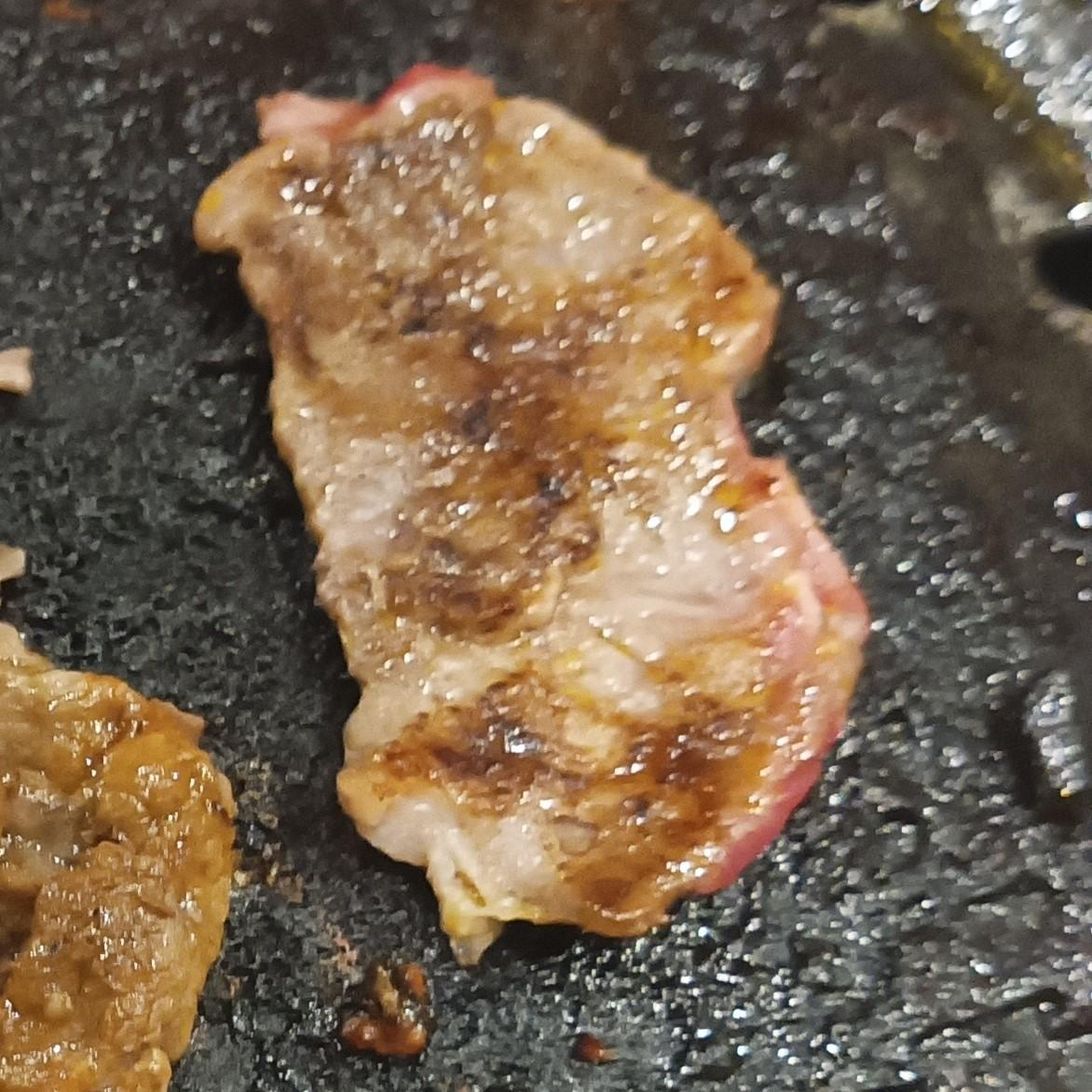Overcooked: (191, 66, 871, 966)
Well-Cooked: (0, 626, 239, 1091)
